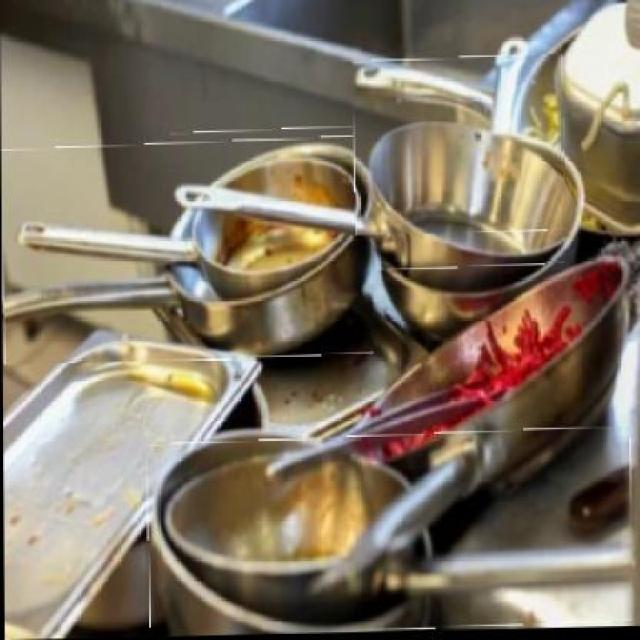pot: (146, 431, 634, 636), (2, 138, 375, 366), (171, 123, 566, 278), (18, 145, 360, 304), (354, 57, 566, 237)
